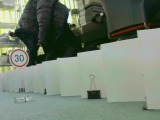speed_30: (9, 49, 29, 68)
